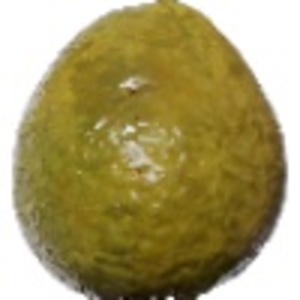goiaba: (14, 3, 286, 297)
